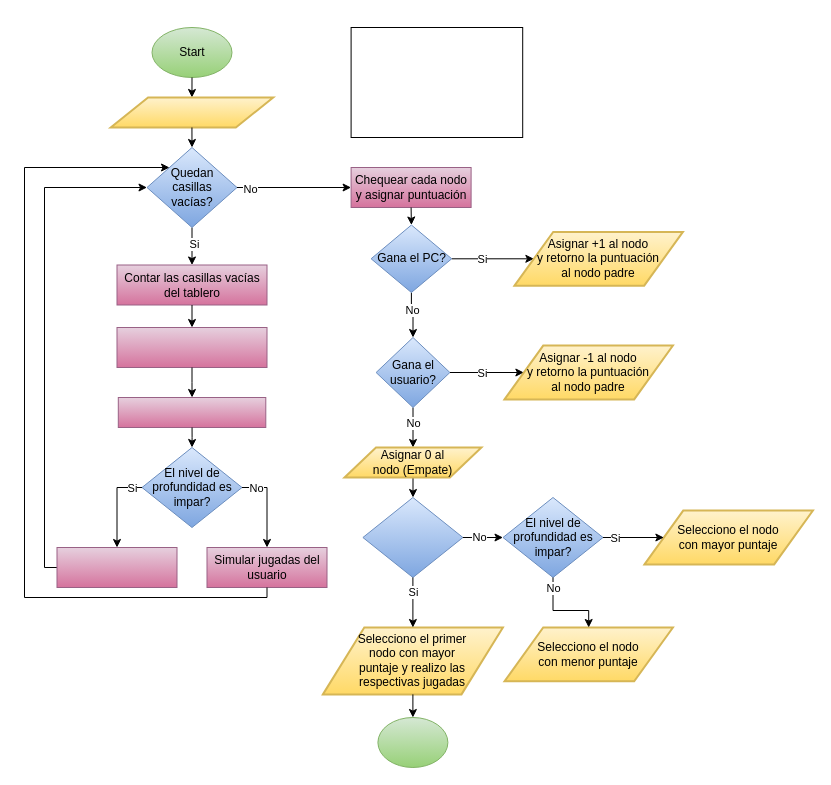
This 831x785 diagram has some shape labels left out. The shapes that lost their labels are listed below. From the top down, each one's box as (x1, y1, x2, y2) in pixels, then its label:
(350, 26, 523, 138): Integrantes: Grupo 11 * Yeison Idarraga Chavarria * Juan Camilo Agudelo Aquite
(109, 96, 274, 128): Tomar tablero actual
(116, 326, 267, 368): Crear la cantidad de nodos según las casillas vacías
(117, 396, 266, 428): Obtener posibles movimientos
(362, 496, 463, 578): Es primer nivel?
(56, 546, 177, 588): Juega el PC
(377, 716, 448, 768): Fin
